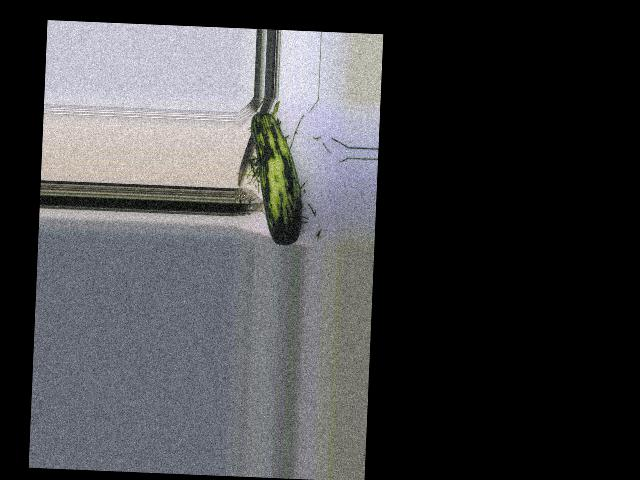cucumber: (246, 110, 306, 245)
